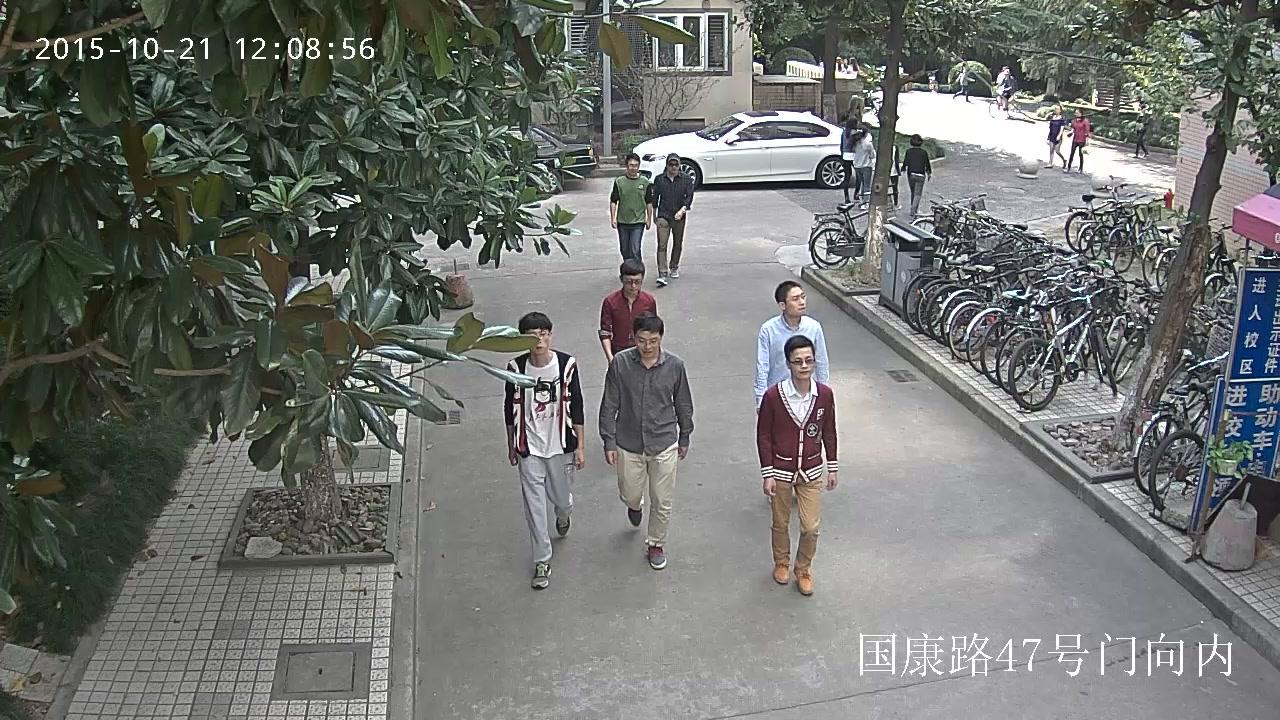face: (791, 347, 814, 377), (636, 330, 659, 357), (526, 329, 549, 353), (787, 287, 806, 314), (623, 273, 641, 293), (628, 158, 638, 174), (668, 160, 678, 173), (1055, 106, 1060, 114), (1075, 109, 1079, 117), (1005, 68, 1008, 74)
